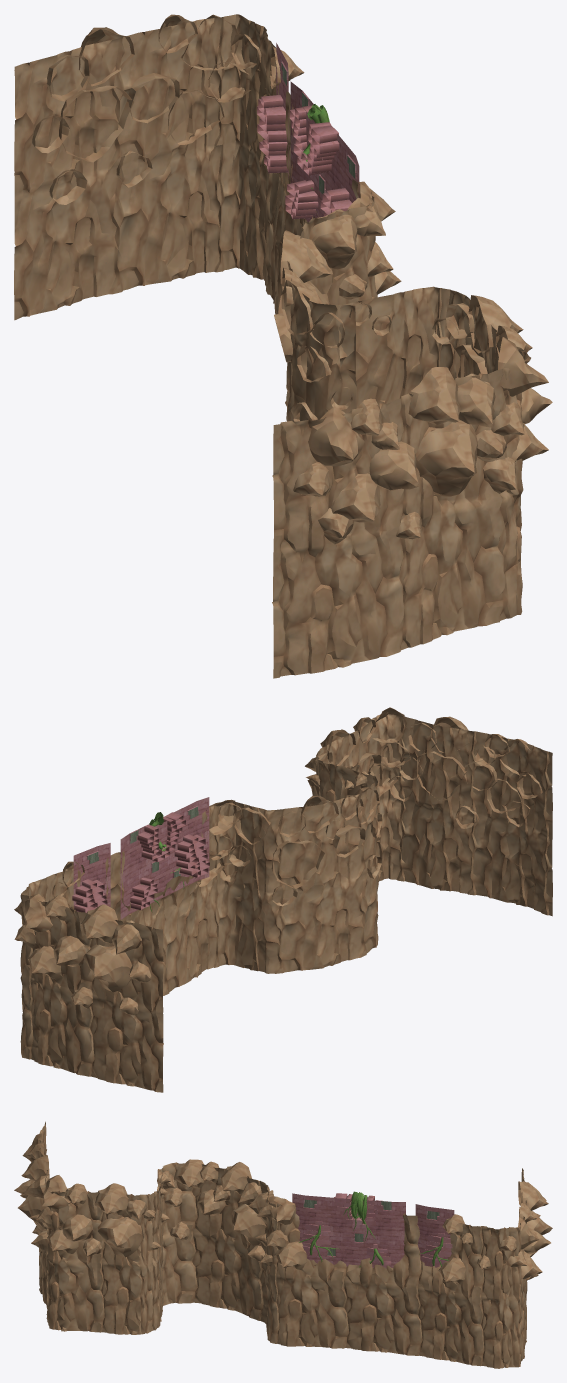
The model's file is SM_ENV_KNFRST_Cliff_Af.FBX.
3 renders of one model, top to bottom at view 1: azimuth 30°, elevation 25°; view 2: azimuth 150°, elevation 25°; view 3: azimuth 270°, elevation 25°, orthographic. The views are drawn at different scales.
Visible parts, largest first — view 1: SM_ENV_KNFRST_Cliff_Af; view 2: SM_ENV_KNFRST_Cliff_Af; view 3: SM_ENV_KNFRST_Cliff_Af.
Part boxes in pixels (x1,y1,x2,y2): SM_ENV_KNFRST_Cliff_Af: (14, 14, 552, 678); SM_ENV_KNFRST_Cliff_Af: (14, 707, 552, 1092); SM_ENV_KNFRST_Cliff_Af: (14, 1121, 552, 1368).
Size of the model in its own units: 5347 by 3542 by 10942.
